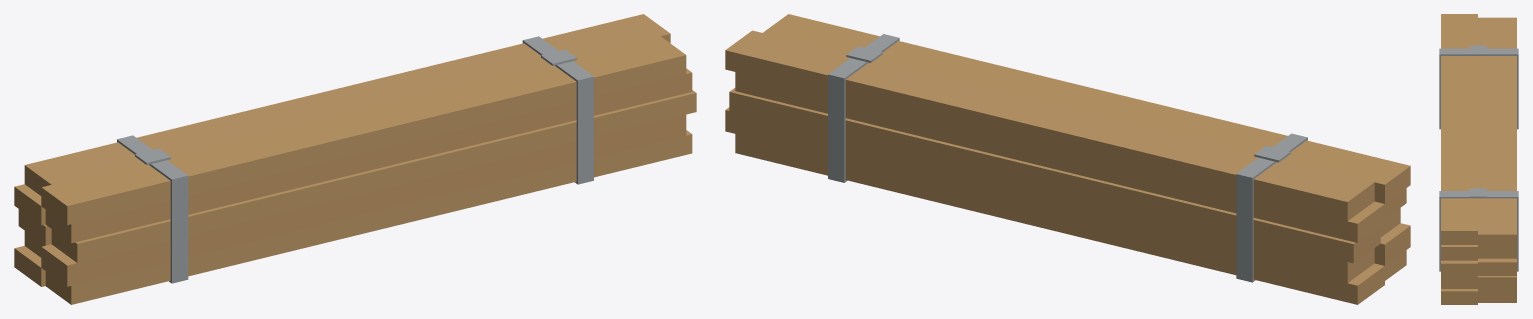
Rendered from bundle_plank.glb.
3 renders of one model, left to right at view 1: azimuth 30°, elevation 25°; view 2: azimuth 150°, elevation 25°; view 3: azimuth 270°, elevation 25°, orthographic. The views are drawn at different scales.
Parts seen in each view (by area): view 1: bundle_plank:compound; view 2: bundle_plank:compound; view 3: bundle_plank:compound.
Boxes of the visible parts, box(x1,y1,x2,y2) form: bundle_plank:compound: box(14, 14, 696, 304); bundle_plank:compound: box(725, 14, 1410, 304); bundle_plank:compound: box(1439, 14, 1518, 304).
Size of the model in its own units: 1.24 by 0.2 by 0.188.
